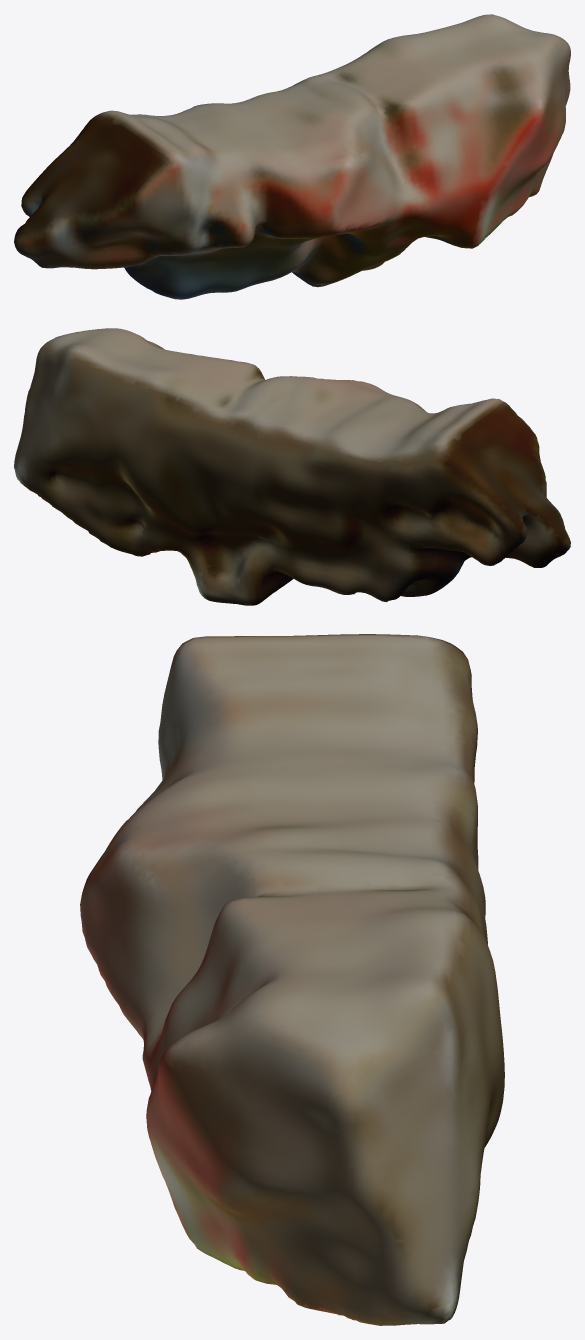
The model's file is blocks.glb.
3 views of the same model, one above another, from view 1: azimuth 30°, elevation 25°; view 2: azimuth 150°, elevation 25°; view 3: azimuth 270°, elevation 25° (orthographic). The views are drawn at different scales.
Size of the model in its own units: 0.9989 by 0.3838 by 0.3416.
